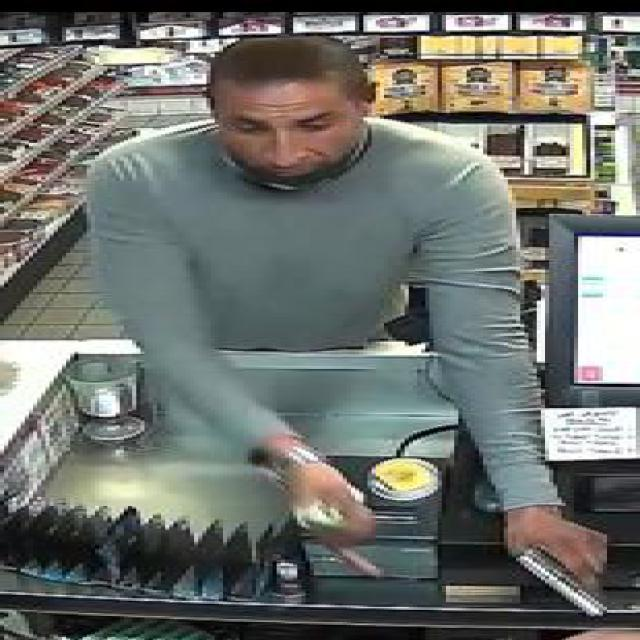Gun: (516, 520, 619, 618)
